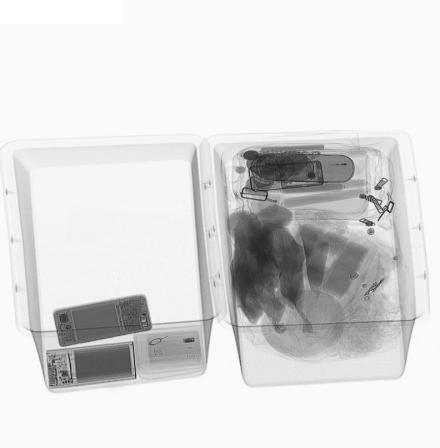Powerbank: (45, 341, 136, 391)
